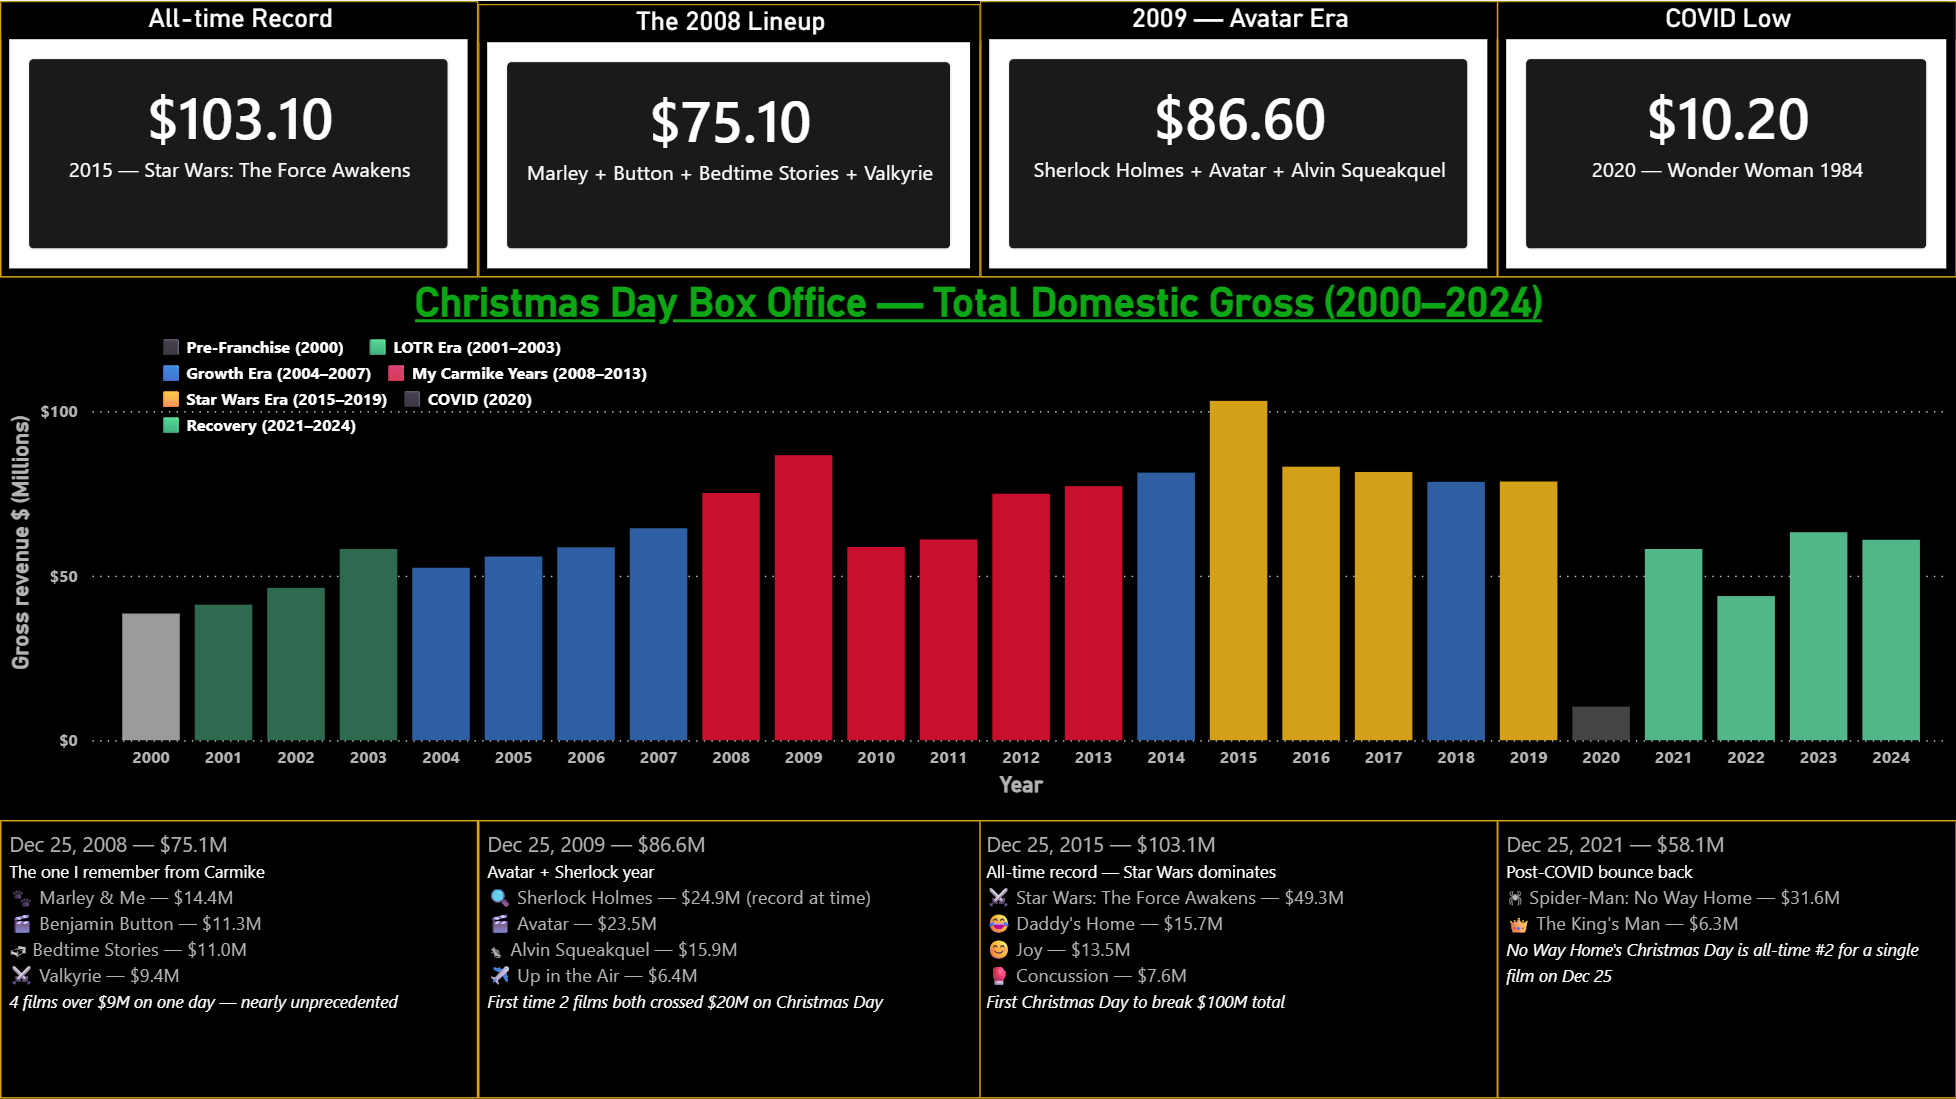

Layout of this report page (visuals, bound fields, positions):
{"tool":"powerbi","page":{"name":"Christmas Day Box Office — Total Domestic Gross (2000–2024)","canvas":[1280,720],"ordinal":0},"visuals":[{"type":"columnChart","title":"Christmas Day Box Office — Total Domestic Gross (2000–2024)","fields":{"Category":["top_film_share.year"],"Y":["Sum(top_film_share.total_gross_mil)"]},"box":[0,181.2,1280.7,344.5],"z":0},{"type":"textbox","box":[99.6,211.1,338.6,83.7],"z":1000},{"type":"cardVisual","title":"COVID Low","fields":{"Data":["Sum(top_film_share.total_gross_mil)"]},"box":[979.9,0,300.8,181.2],"z":2000},{"type":"cardVisual","title":"2009 — Avatar Era","fields":{"Data":["Sum(top_film_share.total_gross_mil)"]},"box":[641.3,0,338.6,181.2],"z":3000},{"type":"cardVisual","title":"The 2008 Lineup","fields":{"Data":["Sum(top_film_share.total_gross_mil)"]},"box":[312.7,2,328.6,179.3],"z":4000},{"type":"cardVisual","title":"All-time Record","fields":{"Data":["Sum(top_film_share.total_gross_mil)"]},"box":[0,0,312.7,181.2],"z":5000},{"type":"textbox","box":[0,535.8,312.7,183.2],"z":6000},{"type":"textbox","box":[639.3,535.8,340.6,183.2],"z":7000},{"type":"textbox","box":[312.7,535.8,328.6,183.2],"z":8000},{"type":"textbox","box":[979.9,535.8,300.8,183.2],"z":9000}]}

Visuals, with their boxes in screenshot pixels (x1, y1, x2, y2), scaled from the page's 1280x720 canvas onto the 1956x1099 screenshot:
"Christmas Day Box Office — Total Domestic Gross (2000–2024)" columnChart: bbox=(0, 277, 1955, 802)
textbox: bbox=(152, 322, 670, 450)
"COVID Low" cardVisual: bbox=(1497, 0, 1955, 277)
"2009 — Avatar Era" cardVisual: bbox=(980, 0, 1497, 277)
"The 2008 Lineup" cardVisual: bbox=(478, 3, 980, 277)
"All-time Record" cardVisual: bbox=(0, 0, 478, 277)
textbox: bbox=(0, 818, 478, 1097)
textbox: bbox=(977, 818, 1497, 1097)
textbox: bbox=(478, 818, 980, 1097)
textbox: bbox=(1497, 818, 1955, 1097)
